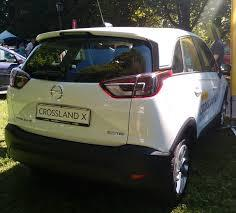opel: (44, 80, 71, 103)
